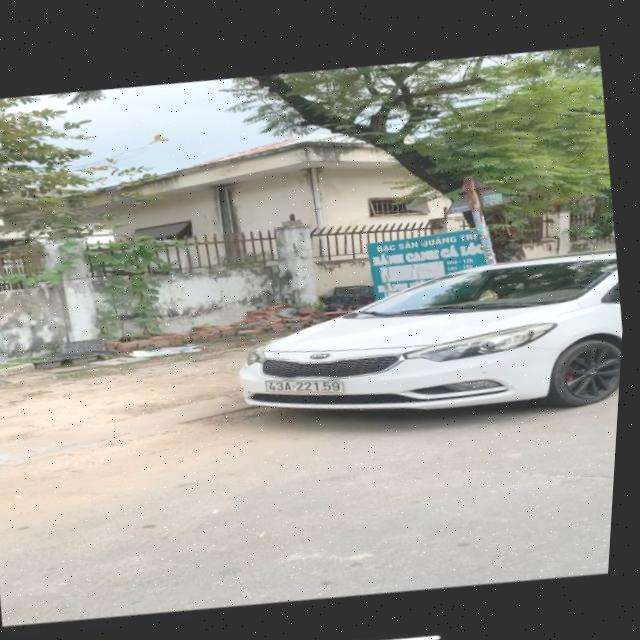car: (217, 230, 627, 463)
plate: (261, 367, 350, 408)
